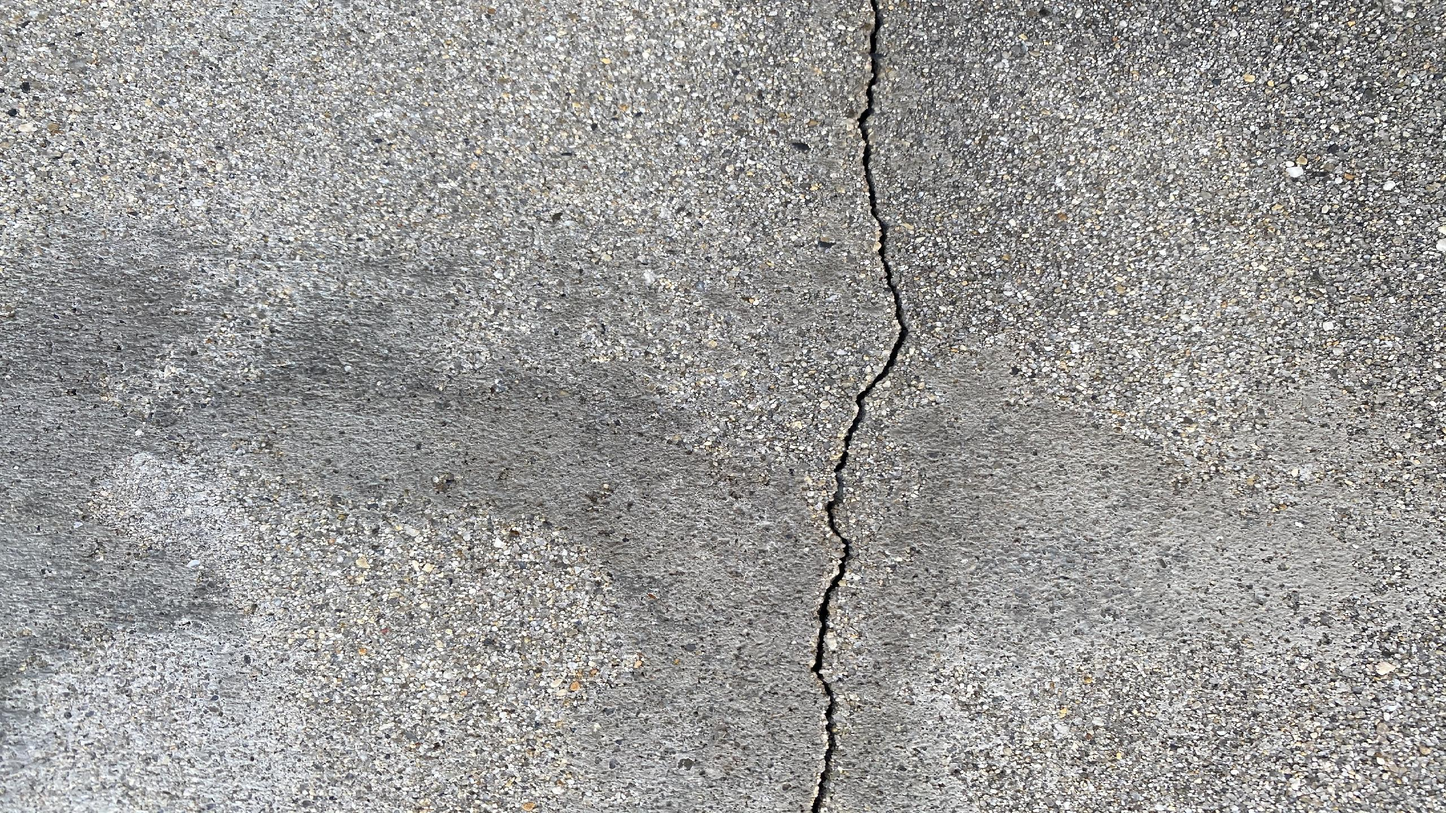crack: (809, 2, 910, 811)
